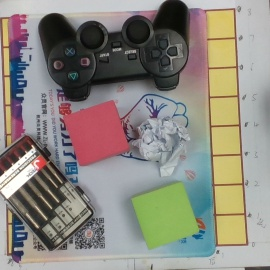remote: (36, 1, 194, 102)
